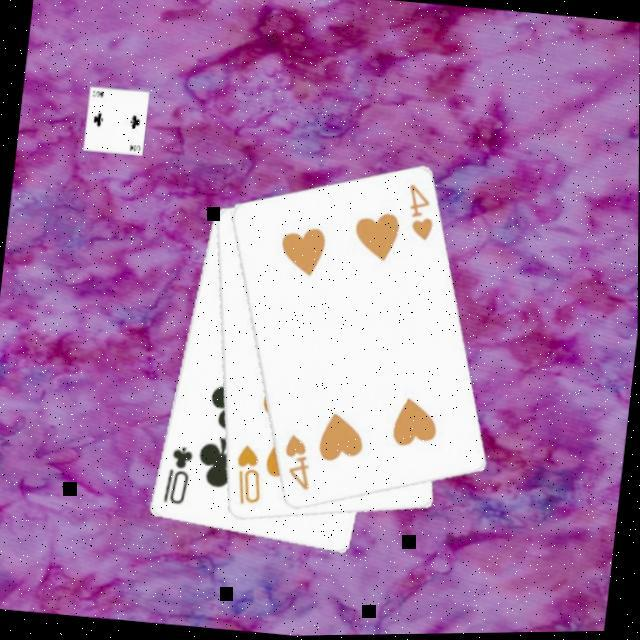10C: (158, 441, 195, 508)
10H: (226, 440, 267, 508)
4H: (398, 180, 438, 244), (276, 431, 316, 494)
